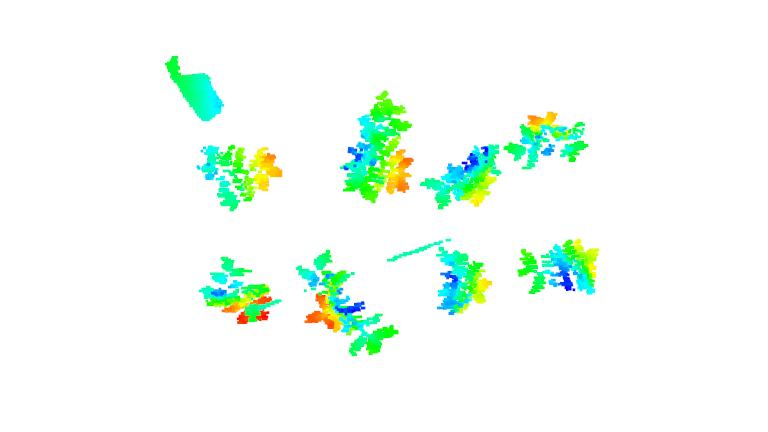chickpea: (295, 250, 401, 358), (338, 87, 414, 208), (196, 143, 288, 214), (420, 138, 502, 212), (196, 257, 279, 323), (504, 108, 589, 172), (517, 236, 601, 299), (430, 243, 494, 316)
